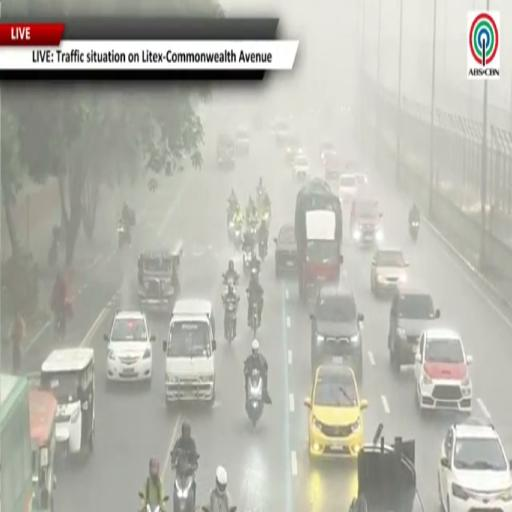bus: (0, 375, 32, 511)
car: (438, 419, 511, 511), (40, 347, 95, 457), (304, 365, 368, 459), (163, 299, 216, 406), (310, 280, 363, 382), (415, 328, 472, 412), (388, 285, 440, 372), (104, 311, 155, 382), (350, 188, 383, 246), (371, 249, 408, 295), (274, 224, 297, 278), (217, 134, 235, 170), (338, 173, 358, 204), (324, 152, 342, 185), (272, 119, 292, 146), (292, 150, 309, 180), (285, 134, 300, 166), (235, 126, 250, 155), (320, 141, 335, 165), (354, 172, 368, 187)
jeepney: (29, 389, 57, 511), (138, 247, 182, 311)
motorcycle: (173, 452, 196, 511), (246, 368, 263, 426), (225, 300, 237, 343), (117, 223, 131, 248), (54, 311, 65, 341), (250, 300, 258, 338), (48, 239, 58, 269), (243, 249, 253, 277), (223, 275, 238, 292), (409, 221, 419, 243), (232, 226, 242, 248), (259, 238, 267, 261), (227, 219, 235, 240), (143, 504, 161, 511), (229, 506, 236, 511)
truck: (295, 179, 342, 298)
